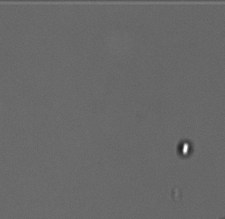Living Cell: (176, 138, 192, 159)
